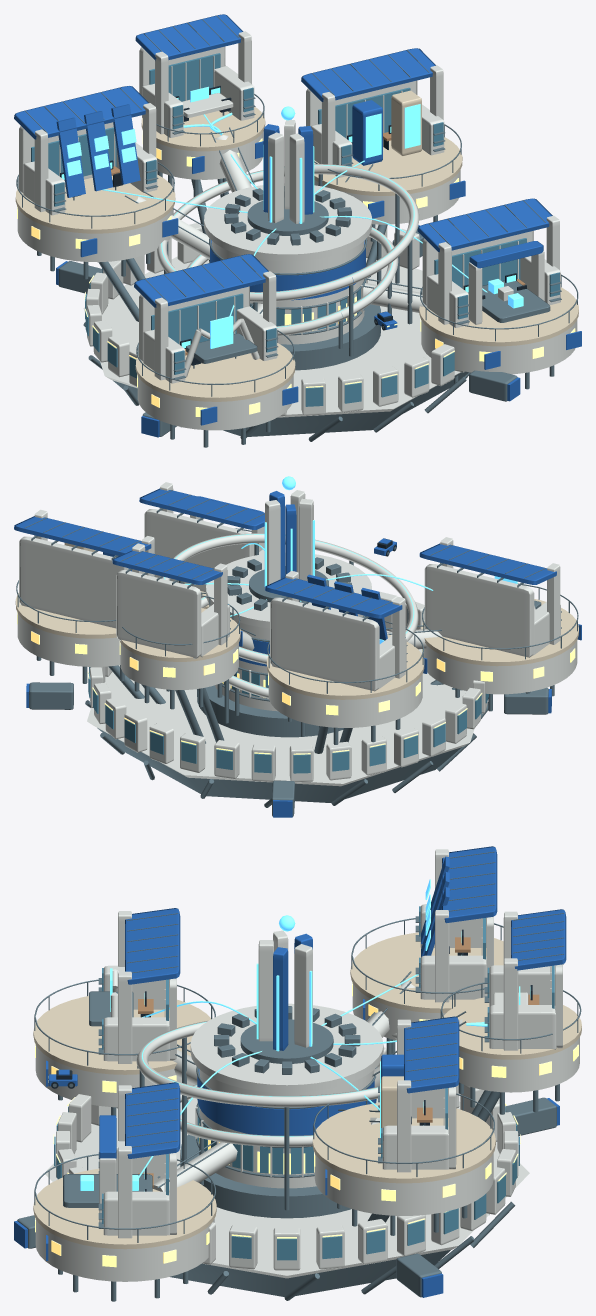
The model's file is bytedance.glb.
3 views of the same model, one above another, from view 1: azimuth 30°, elevation 25°; view 2: azimuth 150°, elevation 25°; view 3: azimuth 270°, elevation 25° (orthographic). The views are drawn at different scales.
Visible parts, largest first — view 1: porcelain, hub_cobalt, steel, ivory, hub_glass, blue_lamps, routing_blade (×4), warm_lamps, dispatch_base, graphite; view 2: porcelain, steel, hub_cobalt, ivory, hub_glass, routing_blade (×4), warm_lamps, blue_lamps, dispatch_base; view 3: porcelain, steel, ivory, hub_cobalt, hub_glass, routing_blade (×3), warm_lamps, blue_lamps, dispatch_base, wood.
Part boxes in pixels (x1,y1,x2,y2): porcelain: [17, 31, 577, 430]; hub_cobalt: [14, 14, 581, 437]; steel: [16, 15, 578, 447]; ivory: [15, 90, 578, 401]; hub_glass: [31, 53, 559, 406]; blue_lamps: [61, 86, 523, 348]; routing_blade (×4): [268, 119, 313, 223]; warm_lamps: [17, 130, 575, 416]; dispatch_base: [247, 197, 328, 235]; graphite: [60, 85, 526, 365]; porcelain: [17, 482, 577, 786]; steel: [16, 490, 578, 816]; hub_cobalt: [14, 488, 581, 817]; ivory: [15, 543, 578, 699]; hub_glass: [88, 576, 488, 773]; routing_blade (×4): [265, 491, 313, 585]; warm_lamps: [17, 611, 575, 754]; blue_lamps: [164, 534, 517, 689]; dispatch_base: [249, 566, 328, 602]; porcelain: [35, 849, 579, 1281]; steel: [17, 851, 581, 1301]; ivory: [33, 932, 581, 1249]; hub_cobalt: [14, 846, 566, 1297]; hub_glass: [54, 906, 554, 1260]; routing_blade (×3): [258, 940, 312, 1050]; warm_lamps: [35, 982, 578, 1267]; blue_lamps: [80, 879, 530, 1191]; dispatch_base: [240, 1019, 333, 1063]; wood: [138, 937, 539, 1188].
Bounding box in the file's own units: 16.42 × 9.61 × 16.48.
